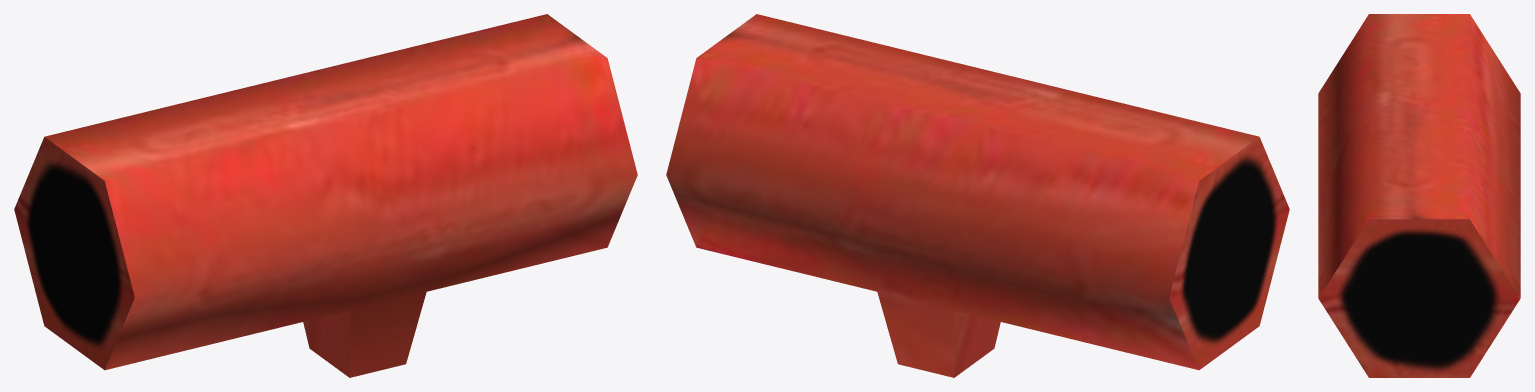
File: Bengal_01.glb
3 views of the same model, side by side, from view 1: azimuth 30°, elevation 25°; view 2: azimuth 150°, elevation 25°; view 3: azimuth 270°, elevation 25° (orthographic). The views are drawn at different scales.
Parts seen in each view (by area): view 1: Bengal_01; view 2: Bengal_01; view 3: Bengal_01.
Boxes of the visible parts, x1=… form: Bengal_01: x1=14, y1=14, x2=637, y2=377; Bengal_01: x1=666, y1=14, x2=1289, y2=377; Bengal_01: x1=1318, y1=14, x2=1520, y2=377.
Bounding box in the file's own units: 0.1238 × 0.0628 × 0.0515.
Materials: 1 (1 with a texture image).
